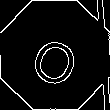O_N: (26, 24, 84, 86)
